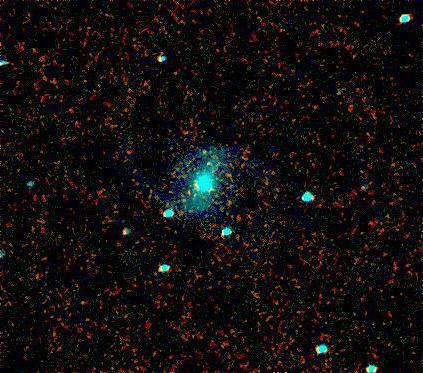star: (192, 145, 222, 175)
